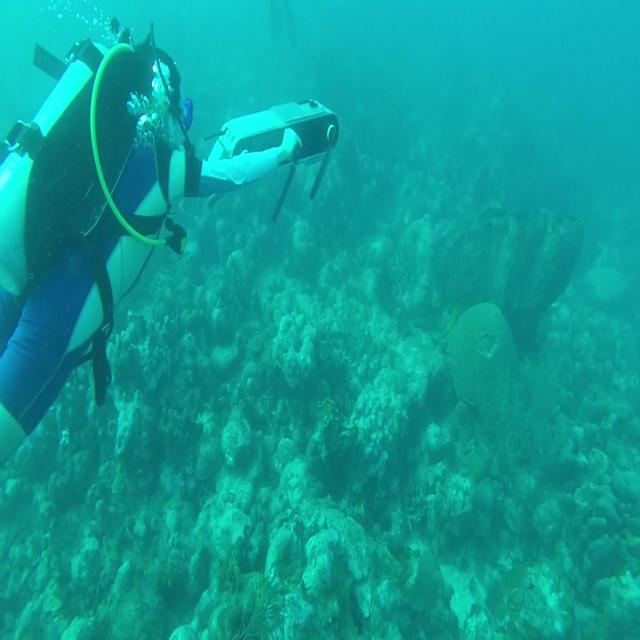human: (0, 21, 338, 466)
